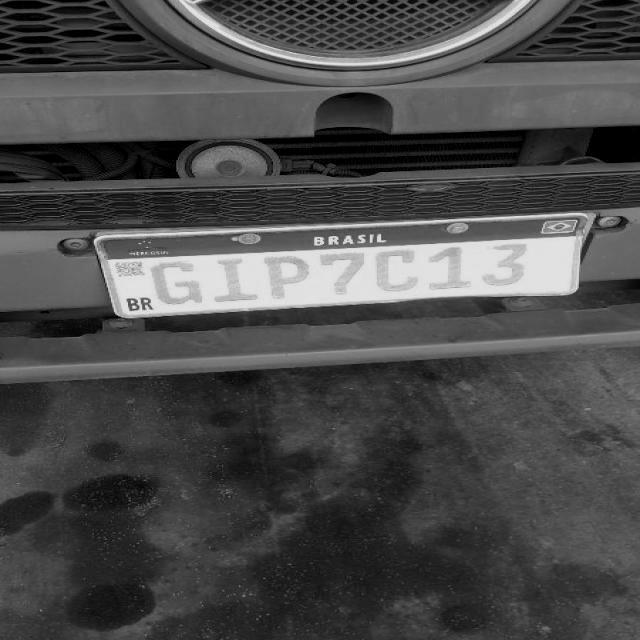placa_mercosul: (96, 212, 593, 319)
